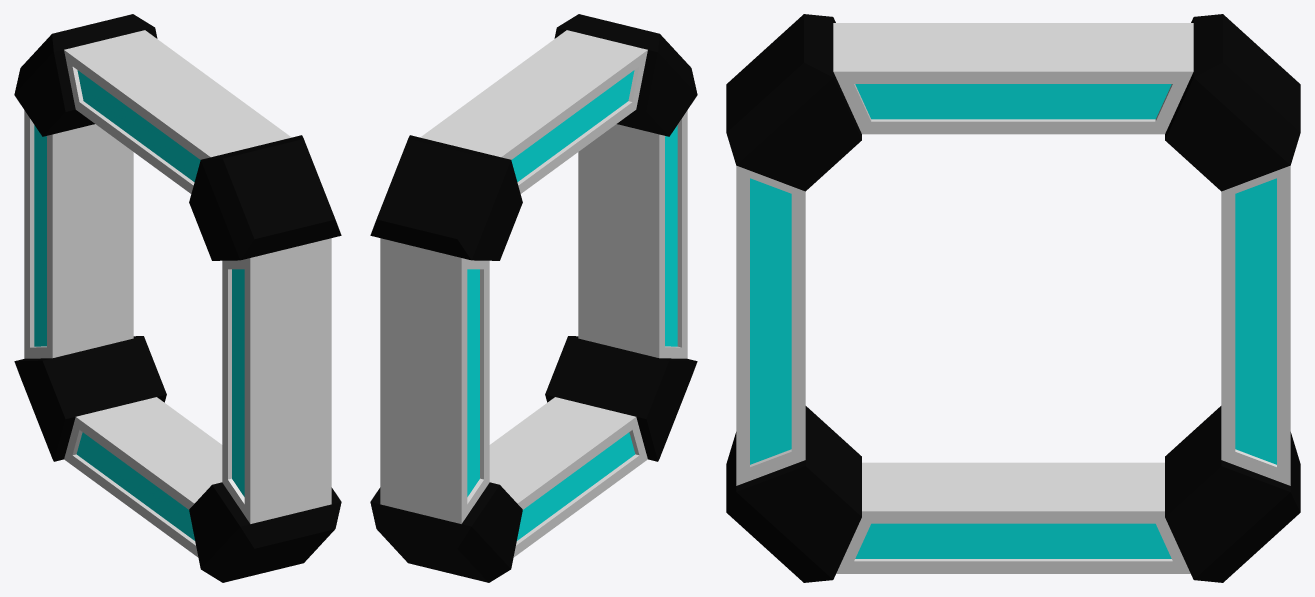
Rendered from Portal.fbx.
3 renders of one model, left to right at view 1: azimuth 30°, elevation 25°; view 2: azimuth 150°, elevation 25°; view 3: azimuth 270°, elevation 25°, orthographic. The views are drawn at different scales.
Visible parts, largest first — view 1: Cube; view 2: Cube; view 3: Cube.
Boxes of the visible parts, x1=… form: Cube: x1=14, y1=14, x2=341, y2=582; Cube: x1=370, y1=14, x2=697, y2=582; Cube: x1=726, y1=14, x2=1300, y2=582.
Size of the model in its own units: 25 by 100 by 100.
